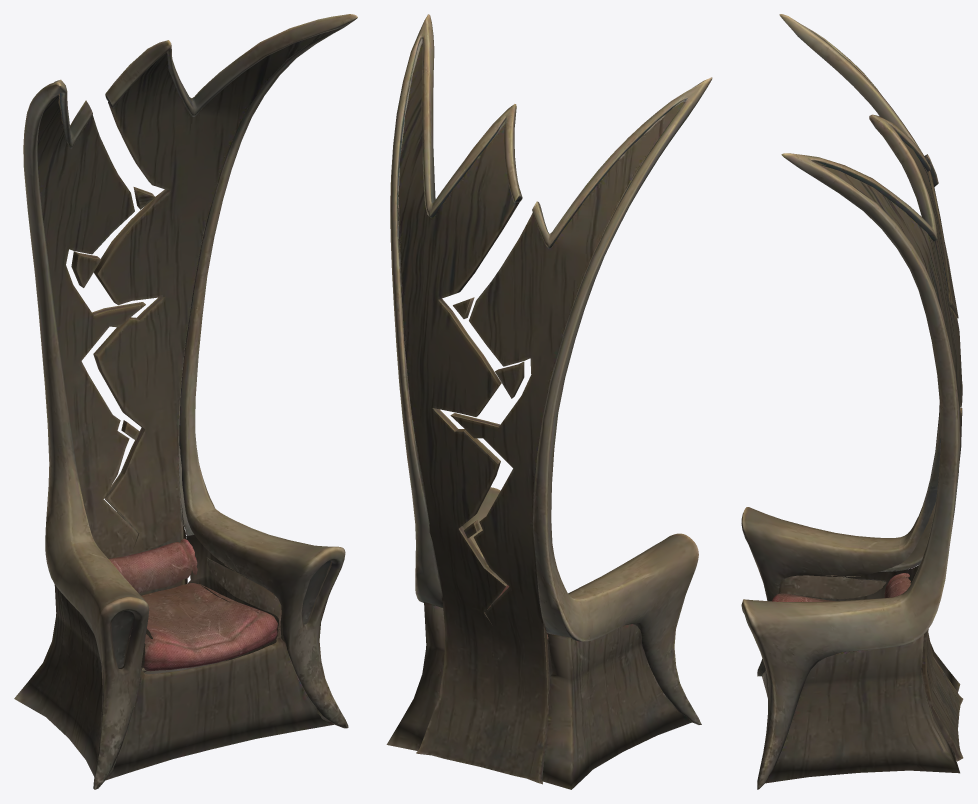
3 views of the same model, side by side, from view 1: azimuth 30°, elevation 25°; view 2: azimuth 150°, elevation 25°; view 3: azimuth 270°, elevation 25° (orthographic). The views are drawn at different scales.
Visible parts, largest first — view 1: SM_Death_Temple_Chair_01_LOD0; view 2: SM_Death_Temple_Chair_01_LOD0; view 3: SM_Death_Temple_Chair_01_LOD0.
Boxes of the visible parts, left/top/right/bottom form: SM_Death_Temple_Chair_01_LOD0: left=14, top=14, right=357, bottom=789; SM_Death_Temple_Chair_01_LOD0: left=386, top=14, right=712, bottom=789; SM_Death_Temple_Chair_01_LOD0: left=741, top=14, right=963, bottom=789.
Bounding box in the file's own units: 2.12 × 4.73 × 1.46.
1 material, 1 textured.
